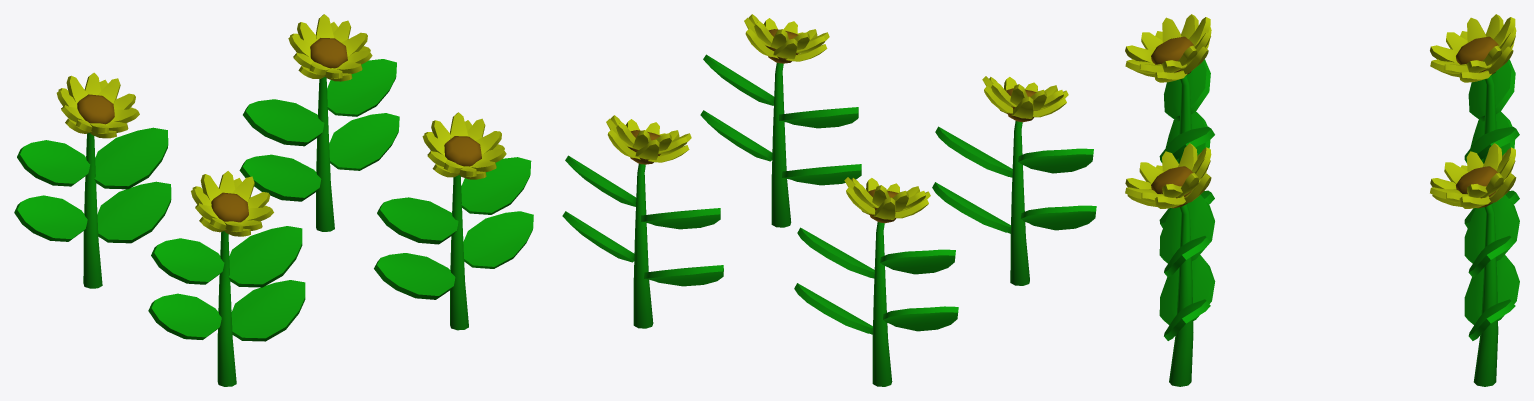
Rendered from Farm_Crop_Sunflower_Step_02.glb.
3 views of the same model, side by side, from view 1: azimuth 30°, elevation 25°; view 2: azimuth 150°, elevation 25°; view 3: azimuth 270°, elevation 25° (orthographic). The views are drawn at different scales.
Parts seen in each view (by area): view 1: Farm_Crop_Sunflower_Step_02; view 2: Farm_Crop_Sunflower_Step_02; view 3: Farm_Crop_Sunflower_Step_02.
Boxes of the visible parts, bbox=[...] form: Farm_Crop_Sunflower_Step_02: bbox=[14, 14, 533, 386]; Farm_Crop_Sunflower_Step_02: bbox=[562, 14, 1096, 386]; Farm_Crop_Sunflower_Step_02: bbox=[1125, 14, 1519, 386].
Bounding box in the file's own units: 1.66 × 0.8357 × 1.3.
1 material, 1 textured.
